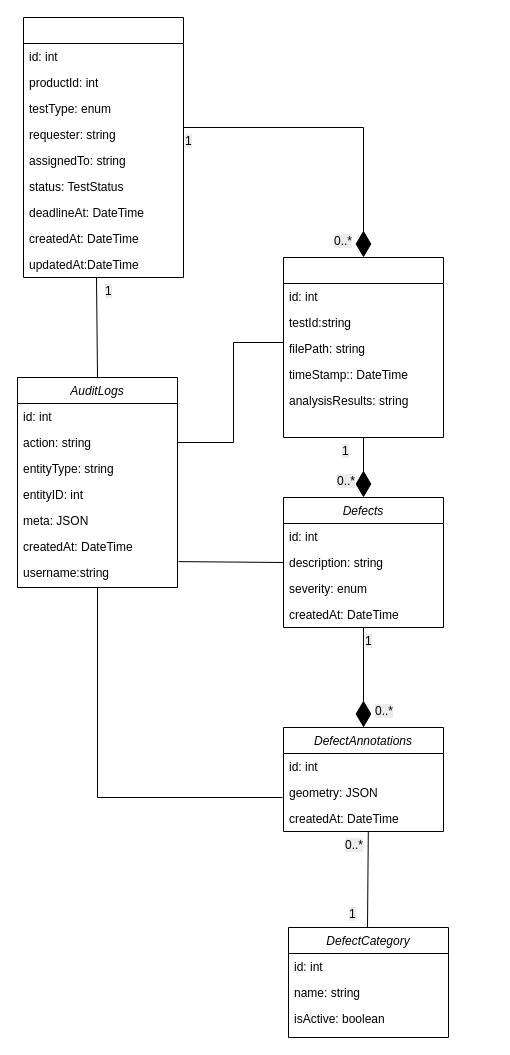
Some shapes in this 510 by 1055 pixel diagram are drawn without their labels. Each missing label, with the box of its shape:
Photos: (282, 256, 444, 438)
QualityTests: (22, 16, 184, 278)
